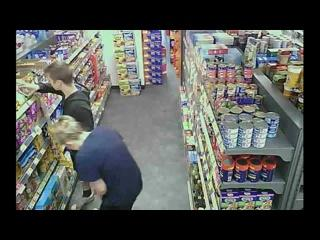Normal: (50, 114, 144, 210), (42, 61, 94, 131)
